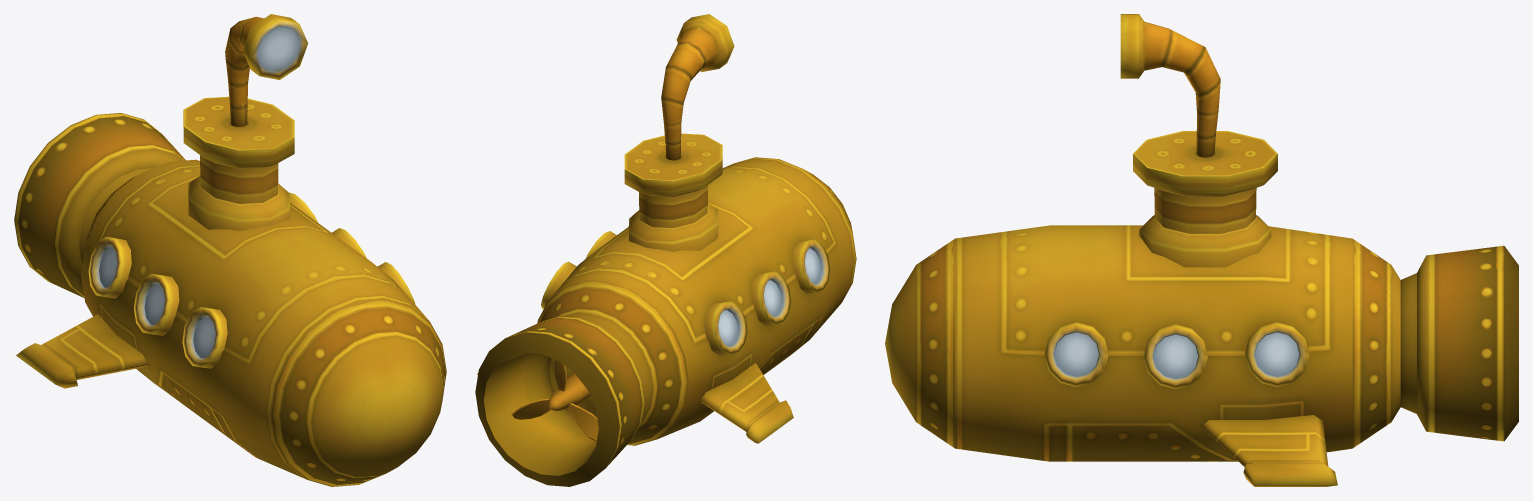
The model's file is assets_submarine.fbx.
3 views of the same model, side by side, from view 1: azimuth 30°, elevation 25°; view 2: azimuth 150°, elevation 25°; view 3: azimuth 270°, elevation 25° (orthographic). The views are drawn at different scales.
Parts seen in each view (by area): view 1: assets_submarine; view 2: assets_submarine; view 3: assets_submarine.
Part boxes in pixels (left/top/right/bottom): assets_submarine: left=14, top=14, right=446, bottom=486; assets_submarine: left=475, top=14, right=856, bottom=486; assets_submarine: left=885, top=14, right=1518, bottom=486.
Bounding box in the file's own units: 23.4 × 29.2 × 38.45.
